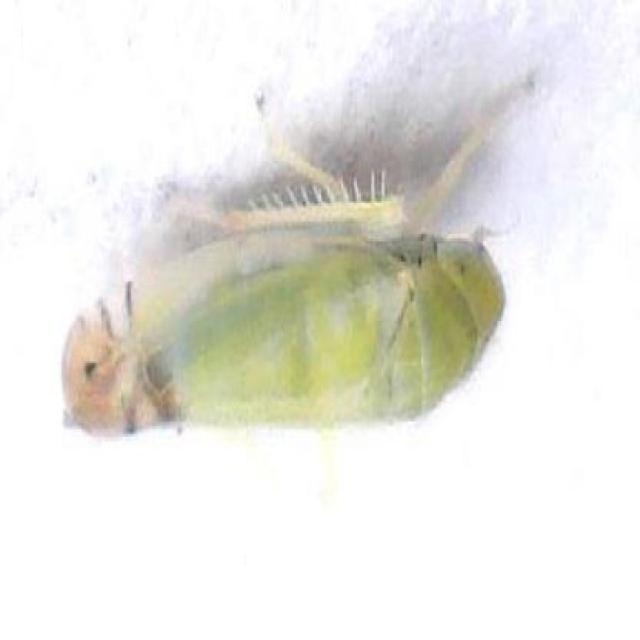green-leafhopper: (63, 209, 506, 453)
